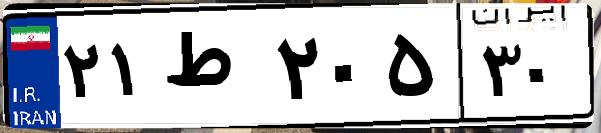0: (330, 28, 385, 110), (525, 38, 570, 115)
1: (110, 28, 158, 98)
2: (270, 28, 330, 110), (57, 26, 110, 100)
3: (475, 38, 525, 113)
5: (385, 28, 445, 110)
ط: (158, 20, 270, 120)
